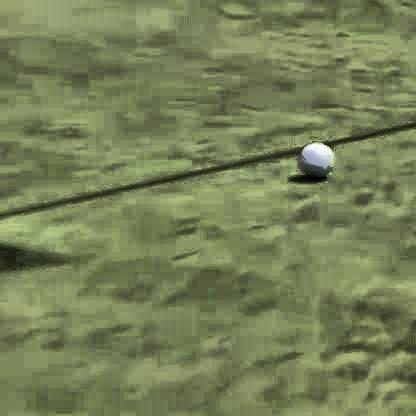golfball: (296, 138, 332, 175)
